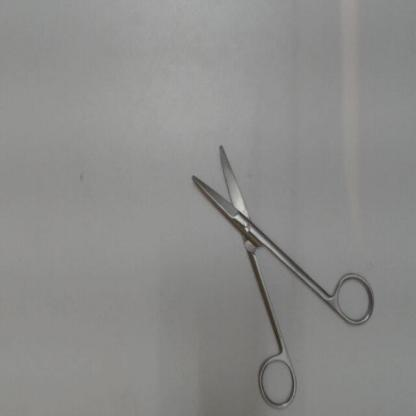Curved Mayo Scissors: (186, 128, 380, 414)
